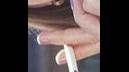Cigarette: (64, 42, 79, 72)
